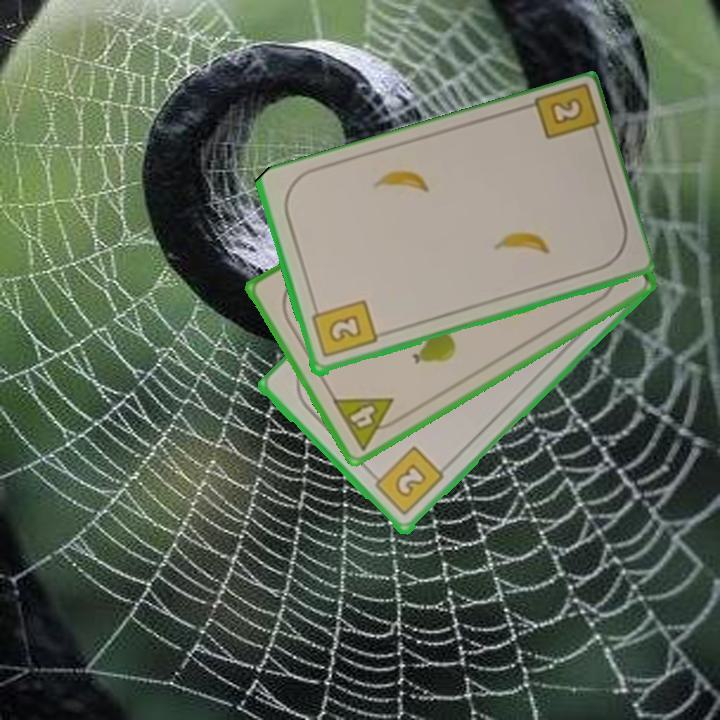2b: (366, 443, 447, 519), (528, 83, 603, 147), (308, 296, 379, 361)
4p: (328, 394, 407, 453)
